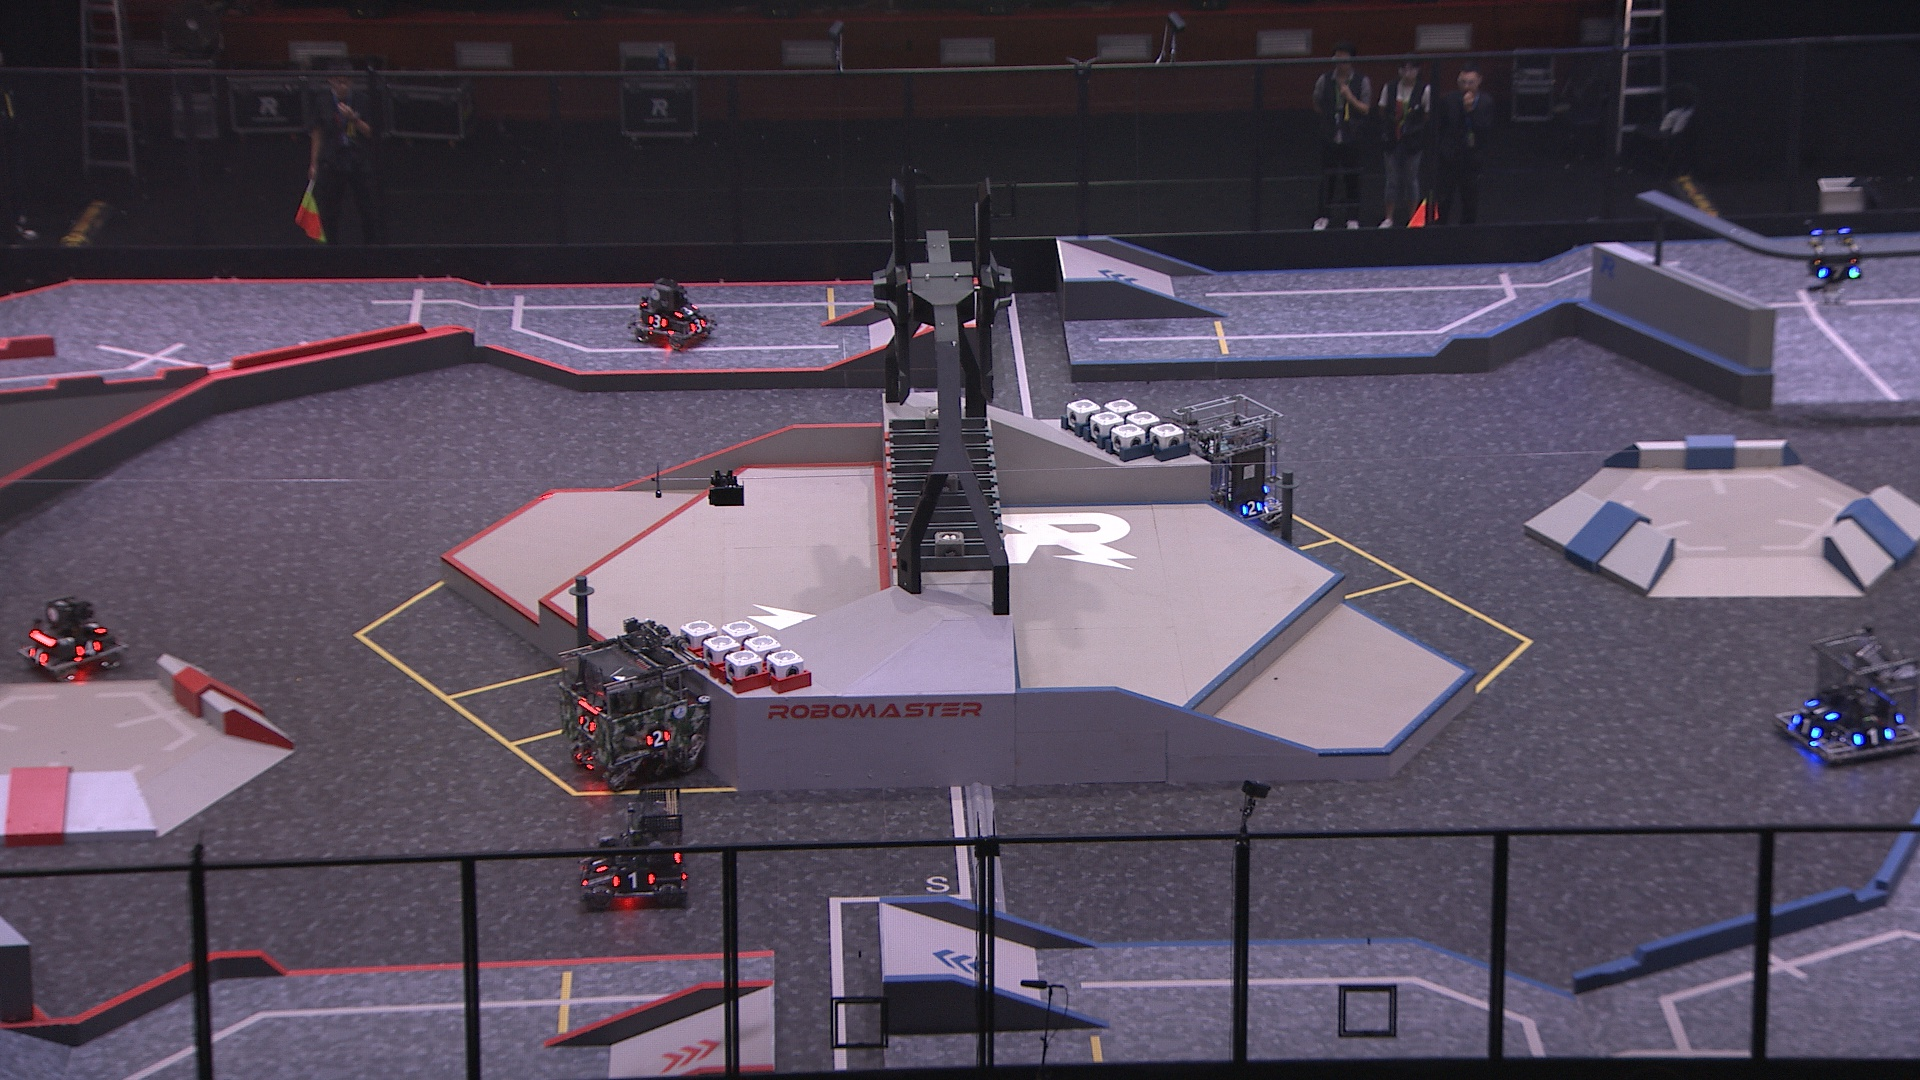armor: (608, 868, 657, 891), (1850, 725, 1896, 749), (1789, 713, 1825, 742), (73, 637, 109, 661), (1815, 262, 1859, 281), (1807, 698, 1837, 723), (641, 727, 671, 746), (585, 851, 609, 876), (572, 713, 599, 736), (1238, 495, 1265, 517), (79, 617, 109, 636), (670, 301, 699, 319), (25, 646, 51, 666), (647, 310, 670, 332), (686, 315, 705, 335)
car: (555, 628, 711, 796), (1770, 621, 1920, 767), (1168, 392, 1286, 531), (574, 789, 690, 913), (16, 591, 131, 687), (622, 277, 717, 353)
watcher: (1795, 214, 1869, 306)
